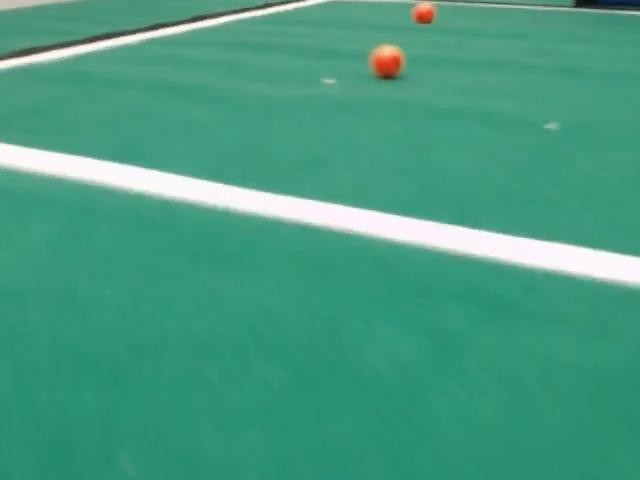Ball: (369, 44, 403, 78)
